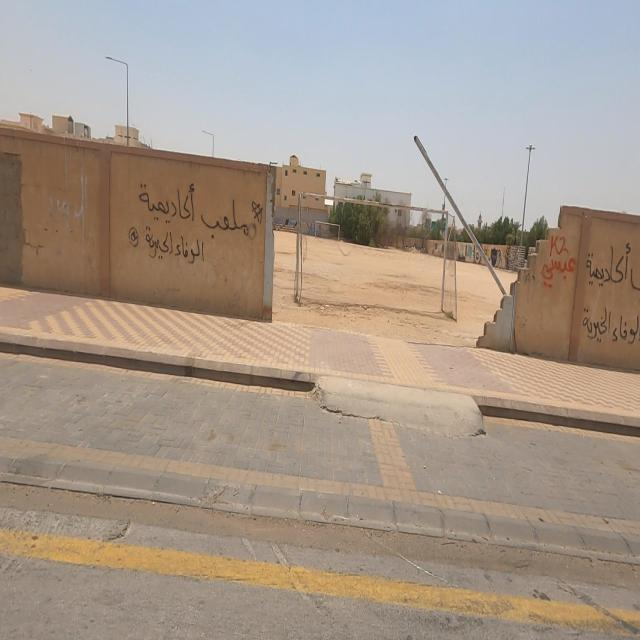Graffiti: (130, 182, 266, 265), (584, 244, 640, 346), (50, 172, 94, 224), (542, 234, 576, 292)
